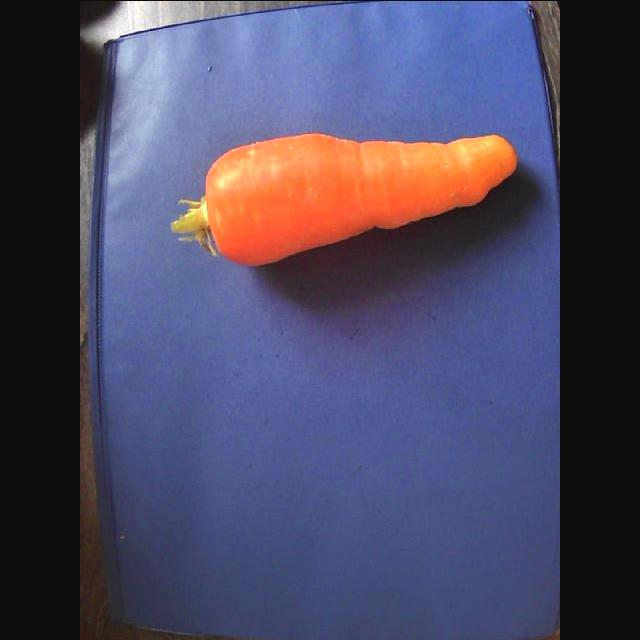zanahoria: (171, 133, 514, 264)
